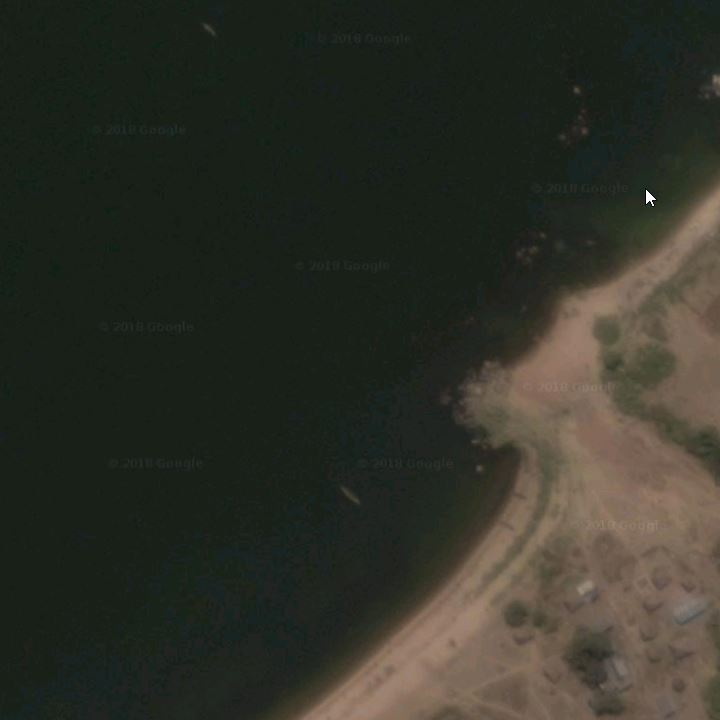boat: (335, 481, 368, 512), (501, 483, 534, 508), (488, 515, 523, 534)
